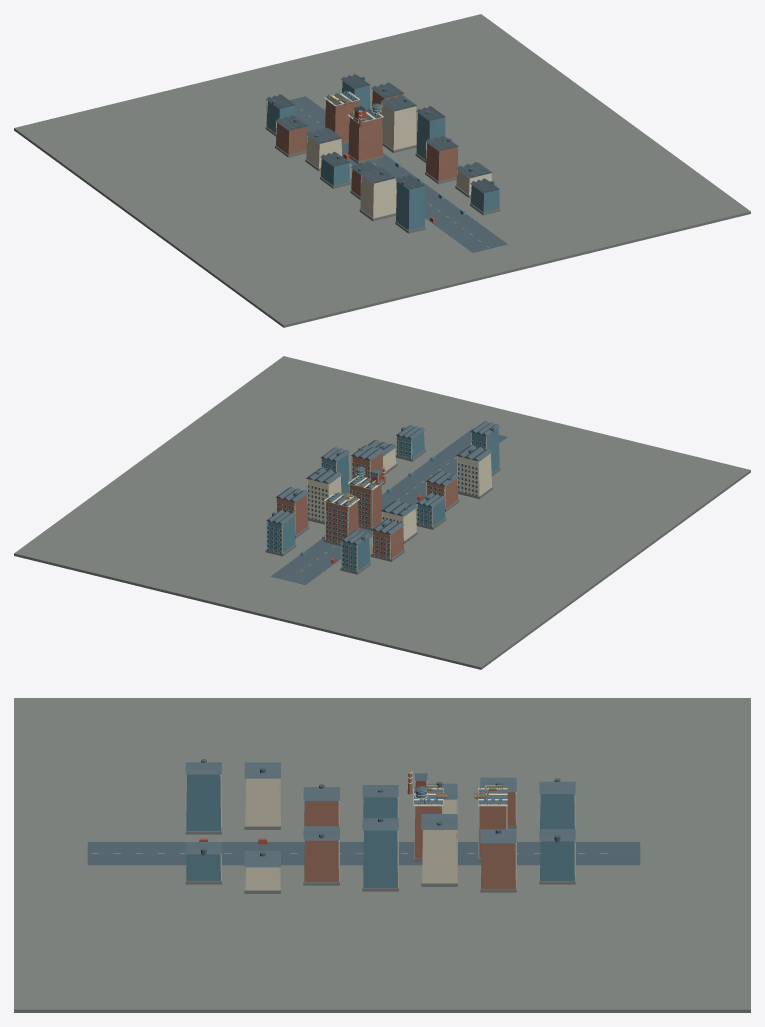
The model's file is rooftops-Cob5Rqx2.glb.
3 views of the same model, one above another, from view 1: azimuth 30°, elevation 25°; view 2: azimuth 150°, elevation 25°; view 3: azimuth 270°, elevation 25° (orthographic). The views are drawn at different scales.
Parts seen in each view (by area): view 1: Rebuilt_rooftops_Paint_stone, Rebuilt_rooftops_Paint_steel, Rebuilt_rooftops_Paint_brick, Rebuilt_rooftops_Paint_ivory, Rebuilt_rooftops_Paint_blue; view 2: Rebuilt_rooftops_Paint_stone, Rebuilt_rooftops_Paint_steel, Rebuilt_rooftops_Paint_ivory, Rebuilt_rooftops_Paint_brick, Rebuilt_rooftops_Paint_blue, Rebuilt_rooftops_Paint_glass; view 3: Rebuilt_rooftops_Paint_stone, Rebuilt_rooftops_Paint_steel, Rebuilt_rooftops_Paint_blue, Rebuilt_rooftops_Paint_ivory, Rebuilt_rooftops_Paint_brick.
Part boxes in pixels (box(x1,y1,x2,y2)): Rebuilt_rooftops_Paint_stone: box(14, 14, 750, 327); Rebuilt_rooftops_Paint_steel: box(266, 74, 507, 252); Rebuilt_rooftops_Paint_brick: box(276, 90, 458, 196); Rebuilt_rooftops_Paint_ivory: box(266, 80, 491, 218); Rebuilt_rooftops_Paint_blue: box(266, 81, 499, 230); Rebuilt_rooftops_Paint_stone: box(14, 356, 750, 669); Rebuilt_rooftops_Paint_steel: box(266, 421, 507, 584); Rebuilt_rooftops_Paint_ivory: box(266, 433, 492, 571); Rebuilt_rooftops_Paint_brick: box(276, 453, 458, 558); Rebuilt_rooftops_Paint_blue: box(267, 428, 499, 571); Rebuilt_rooftops_Paint_glass: box(267, 440, 485, 571); Rebuilt_rooftops_Paint_stone: box(14, 698, 750, 1012); Rebuilt_rooftops_Paint_steel: box(87, 759, 640, 867); Rebuilt_rooftops_Paint_blue: box(186, 774, 574, 887); Rebuilt_rooftops_Paint_ivory: box(220, 771, 575, 890); Rebuilt_rooftops_Paint_brick: box(304, 771, 515, 888).
Bounding box in the file's own units: 400 × 46.5 × 400.
